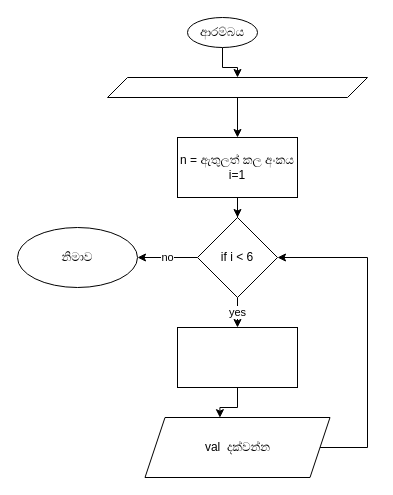
The diagram is 393 pixels wide and 495 high, and some of its shapes have lost their labels. Each missing label, with the centre of its shape:
"val= n x i i=i+1" belongs at point 237,357.
"අංකය ඇතුලත් කරන්න" belongs at point 237,87.
